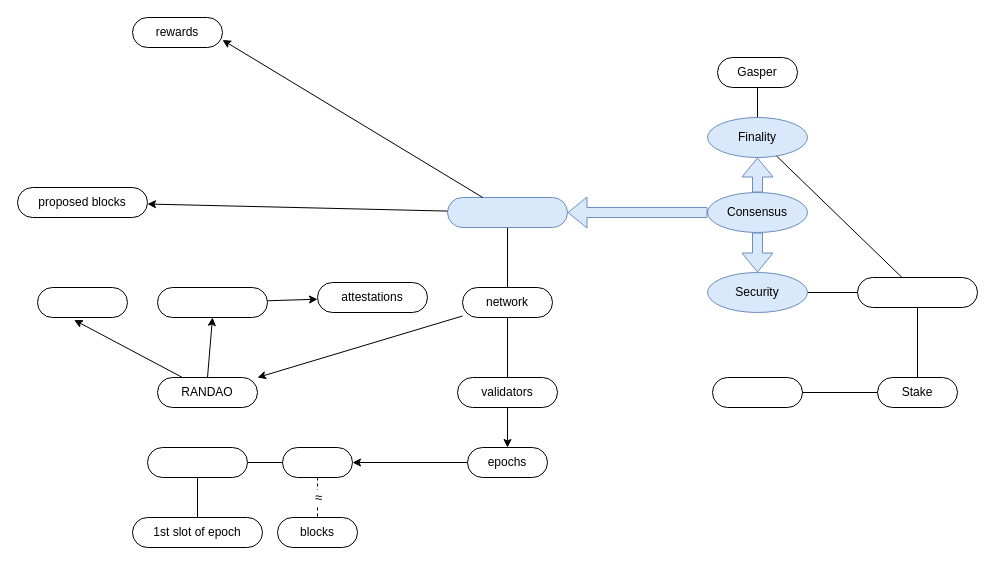
The diagram is 995 pixels wide and 565 high, and some of its shapes have lost their labels. Each missing label, with the centre of its shape:
Beacon chain: (507,212)
checkpoint: (197,462)
committees: (212,302)
Proof of Stake: (917,292)
proposer: (82,302)
Slashing: (757,392)
slots: (317,462)
